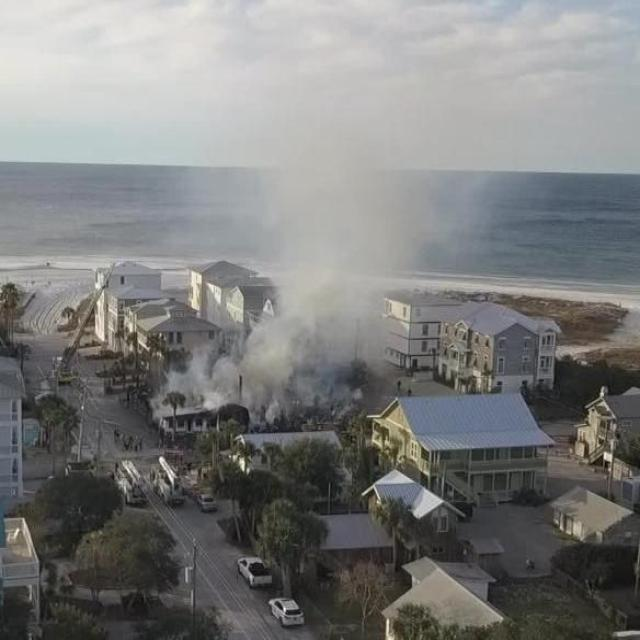Fire: (228, 289, 246, 322)
Smoke: (231, 83, 403, 378)
